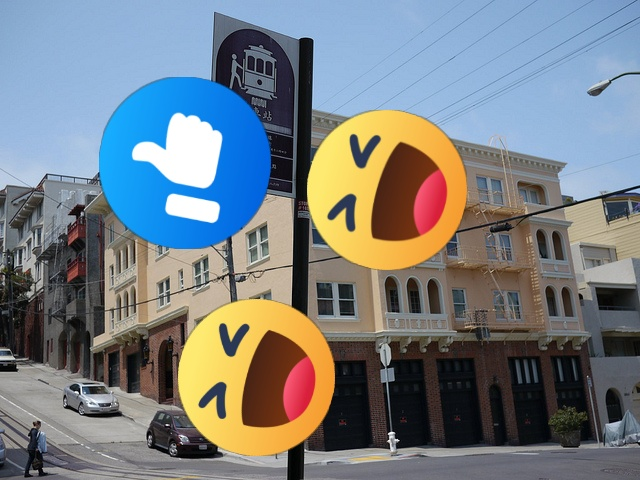haha: (307, 110, 467, 270), (178, 299, 335, 456)
like: (99, 77, 271, 249)
